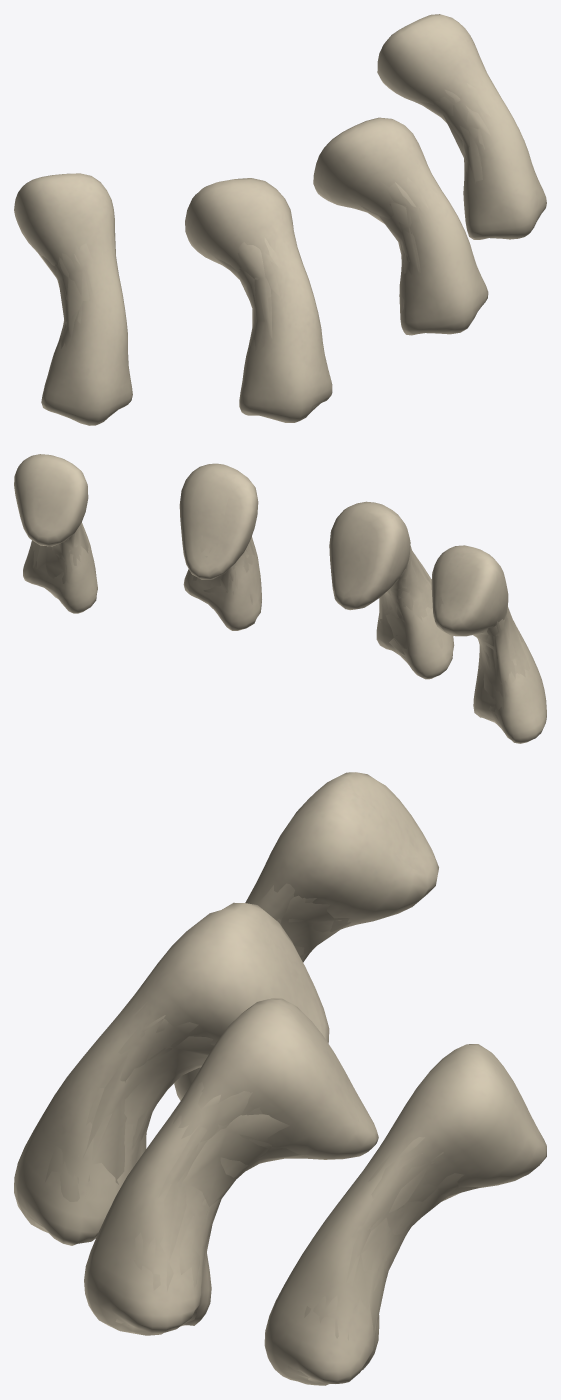
Rendered from FL 2nd Phalanx.fbx.
3 renders of one model, top to bottom at view 1: azimuth 30°, elevation 25°; view 2: azimuth 150°, elevation 25°; view 3: azimuth 270°, elevation 25°, orthographic. The views are drawn at different scales.
Parts seen in each view (by area): view 1: FL 2nd Phalanx high, FL 2nd Phalanx, FL 2nd Phalanx low; view 2: FL 2nd Phalanx high, FL 2nd Phalanx, FL 2nd Phalanx low; view 3: FL 2nd Phalanx high, FL 2nd Phalanx, FL 2nd Phalanx low.
Boxes of the visible parts, x1,y1,x2,y2 form: FL 2nd Phalanx high: (14,14,546,425); FL 2nd Phalanx: (37,56,539,417); FL 2nd Phalanx low: (38,89,490,339); FL 2nd Phalanx high: (14,454,546,743); FL 2nd Phalanx: (27,526,529,730); FL 2nd Phalanx low: (36,524,525,723); FL 2nd Phalanx high: (14,772,546,1385); FL 2nd Phalanx: (26,846,480,1381); FL 2nd Phalanx low: (77,895,476,1377).
Bounding box in the file's own units: 8.94 × 4.01 × 4.96.
1 material, 1 textured.
